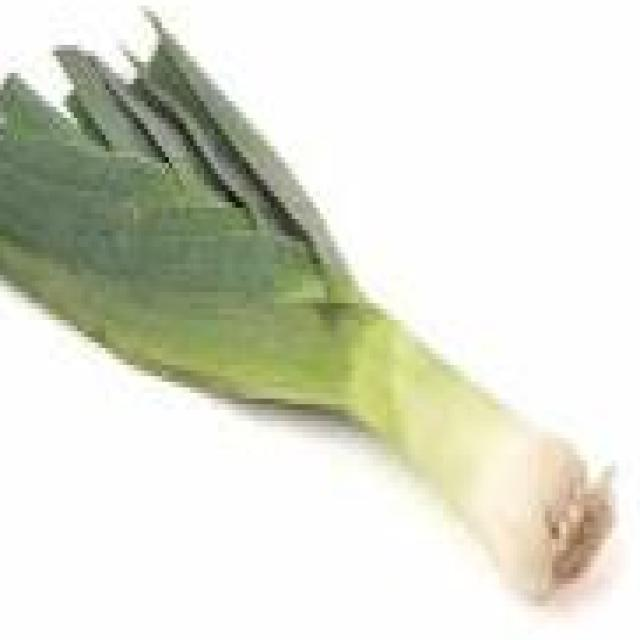greenonions: (0, 0, 640, 601)
